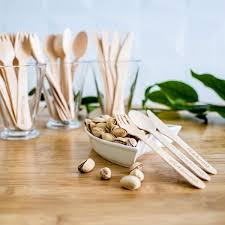Wooden Utensils: (110, 96, 212, 188), (8, 24, 153, 66)
